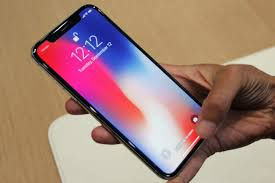mobil: (30, 3, 215, 179)
